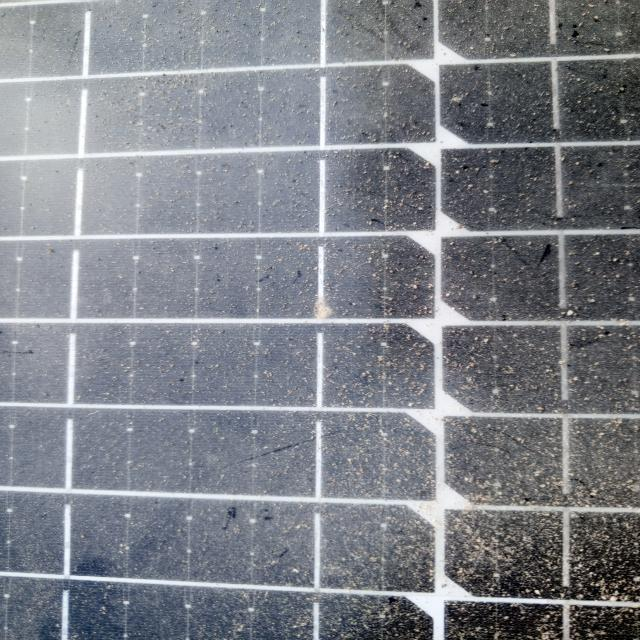Surface Contaminant: (58, 39, 624, 628)
